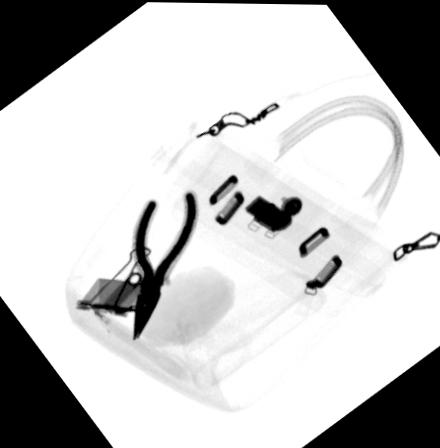Pliers: (130, 188, 198, 341)
